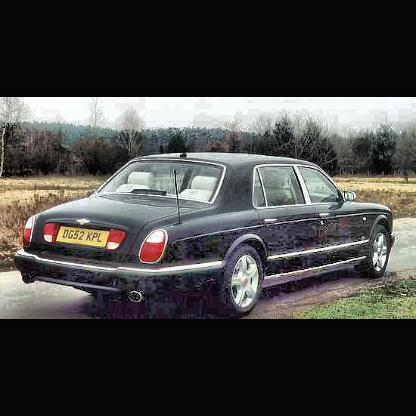Bentley Arnage Sedan 2009: (14, 150, 399, 319)
